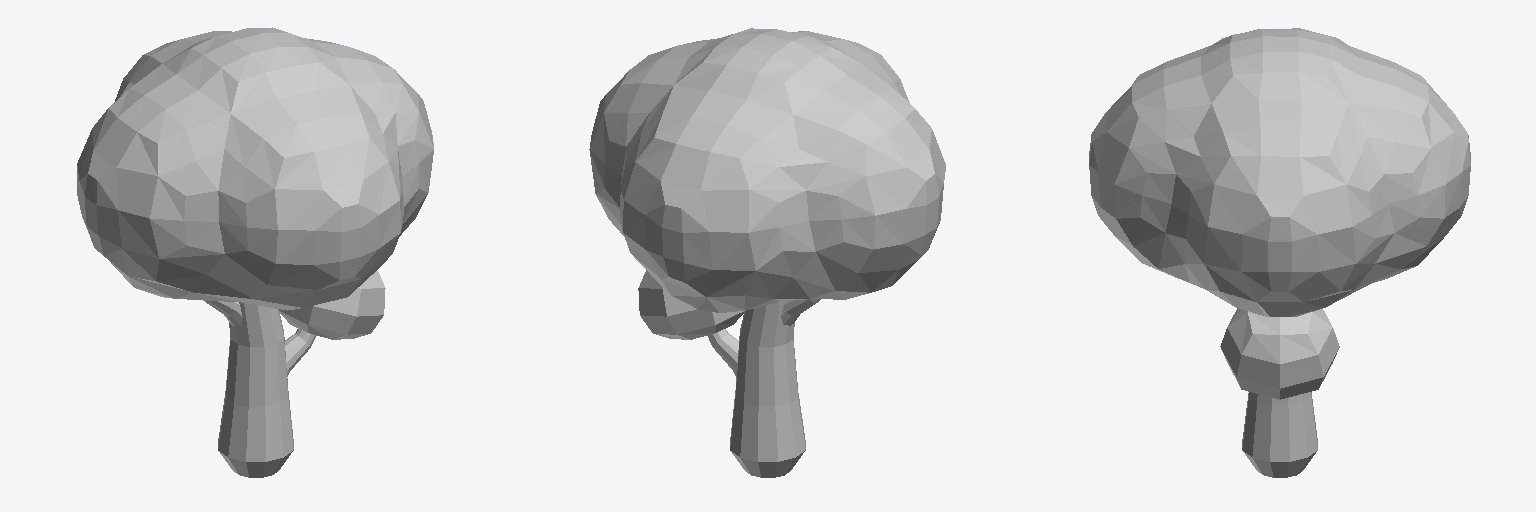
File: tree_large.obj
The picture shows the model from 3 angles: view 1: azimuth 30°, elevation 25°; view 2: azimuth 150°, elevation 25°; view 3: azimuth 270°, elevation 25°; orthographic projection.
Parts seen in each view (by area): view 1: tree_large; view 2: tree_large; view 3: tree_large.
Part boxes in pixels (x1,y1,x2,y2): tree_large: (77, 27, 433, 477); tree_large: (589, 28, 945, 477); tree_large: (1089, 28, 1470, 477).
Bounding box in the file's own units: 3.71 × 4.55 × 3.71.